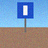sign: (17, 2, 33, 32)
